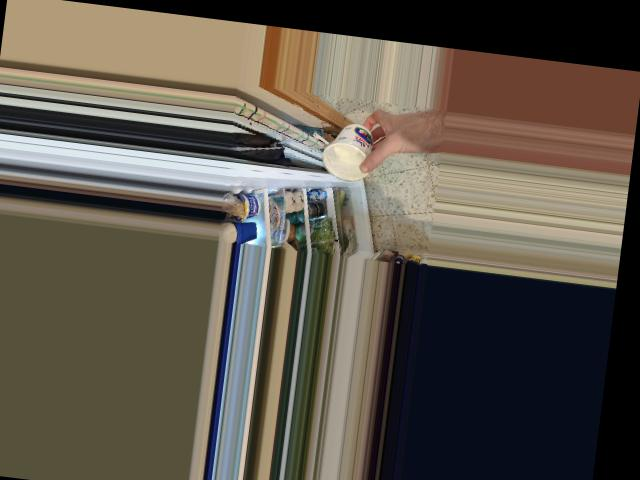cotage: (322, 123, 383, 185)
